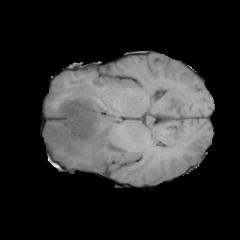glioma: (45, 84, 127, 171)
